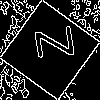Z: (25, 25, 75, 62)
